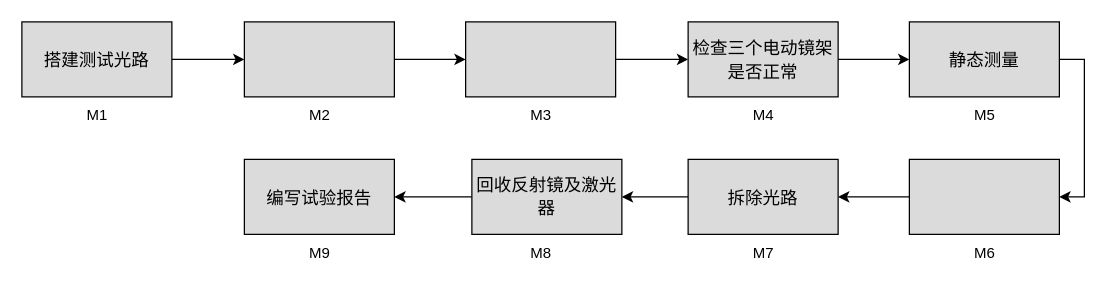
This 1116x294 diagram has some shape labels left out. Each missing label, with the centre of its shape:
"动态试验" goes at [983,196].
"检查三个四象限数据采集是否正确" goes at [540,59].
"测量光路中每两个反射镜的间距" goes at [318,59].
